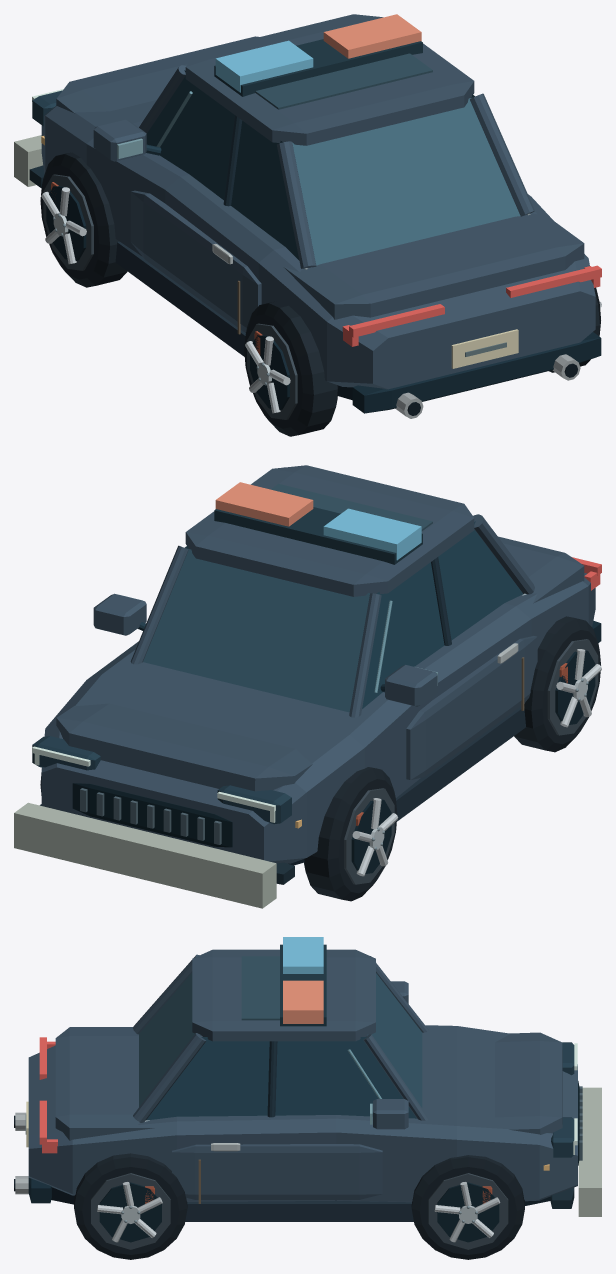
File: interceptor.glb
The picture shows the model from 3 angles, top to bottom: view 1: azimuth 30°, elevation 25°; view 2: azimuth 150°, elevation 25°; view 3: azimuth 270°, elevation 25°; orthographic projection. The views are drawn at different scales.
Parts seen in each view (by area): view 1: interceptor; view 2: interceptor; view 3: interceptor.
Boxes of the visible parts, x1,y1,x2,y2 form: interceptor: (14, 14, 601, 436); interceptor: (14, 465, 601, 908); interceptor: (14, 937, 601, 1259).
Bounding box in the file's own units: 2.54 × 2.05 × 4.77.
